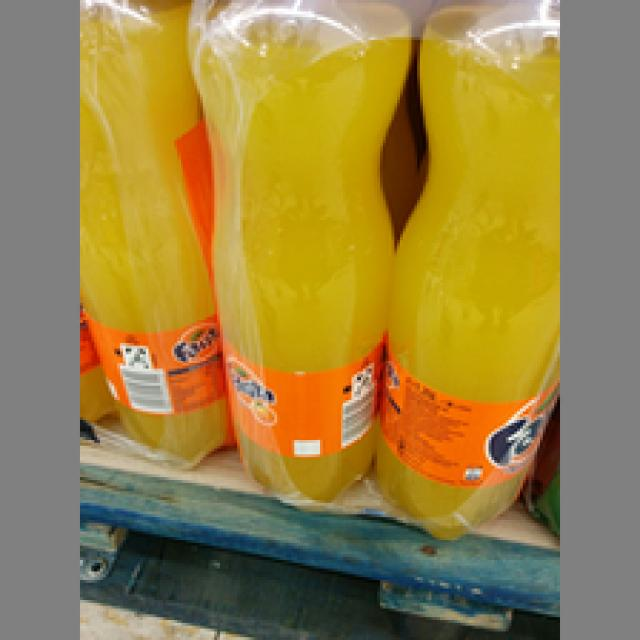groceries: (183, 0, 408, 497), (374, 0, 554, 543), (77, 0, 229, 463)
